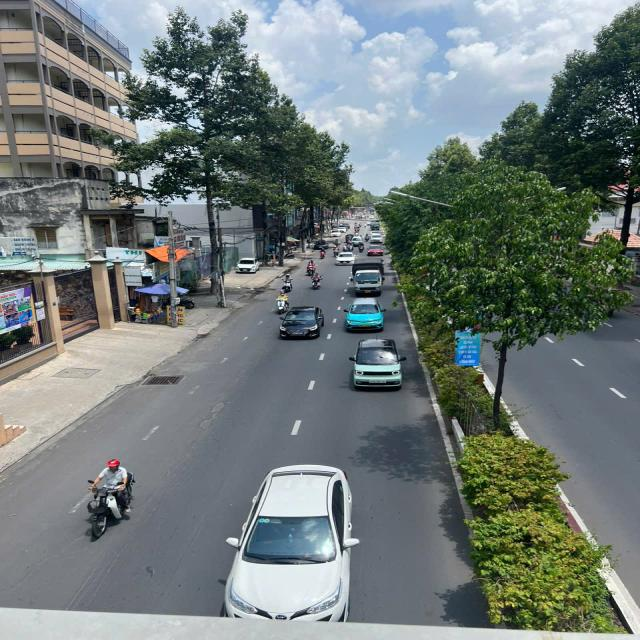Truck: (349, 256, 387, 296)
car: (222, 457, 373, 622), (351, 339, 405, 388), (342, 294, 392, 332), (280, 305, 327, 337), (236, 254, 264, 275), (336, 252, 356, 265), (366, 244, 386, 256), (352, 235, 364, 247), (315, 238, 328, 248), (328, 229, 342, 238), (370, 236, 384, 244), (370, 222, 382, 231), (369, 230, 383, 237), (339, 222, 351, 230), (336, 226, 348, 233), (368, 219, 376, 225)
motobyte: (78, 449, 140, 542), (273, 290, 288, 314), (281, 273, 294, 293), (313, 272, 325, 292), (307, 258, 318, 278), (319, 247, 329, 259), (334, 246, 342, 259), (358, 242, 364, 254), (334, 239, 342, 248), (348, 243, 355, 252), (343, 243, 348, 255), (365, 232, 370, 243), (355, 227, 359, 235), (358, 222, 361, 230), (364, 222, 367, 229), (354, 222, 356, 230)
